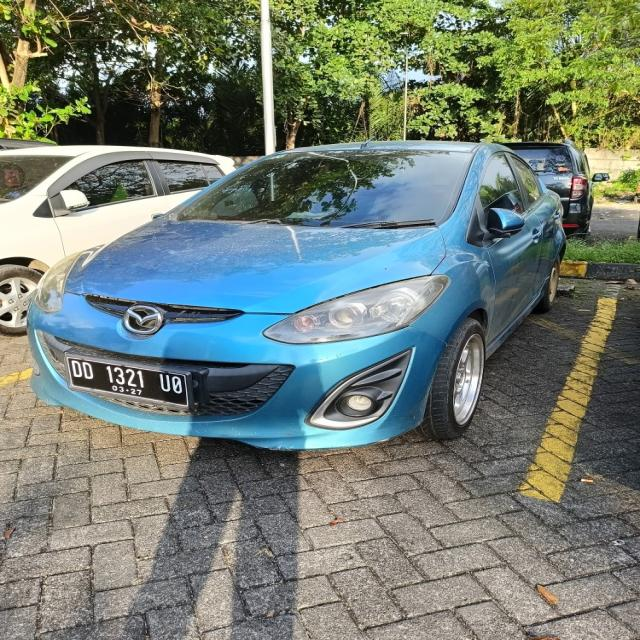plates: (59, 355, 202, 400)
